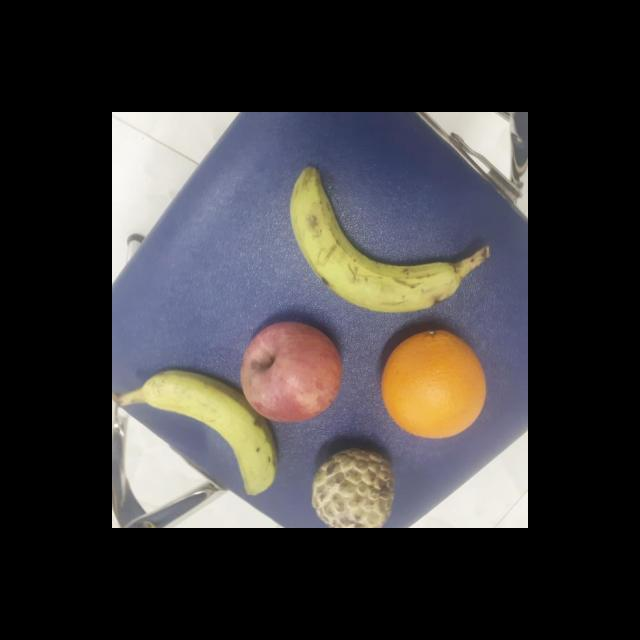Sakya fruit: (310, 450, 396, 528)
apple: (239, 321, 346, 424)
banana: (286, 162, 466, 318), (135, 367, 283, 504)
orange: (376, 330, 487, 440)
